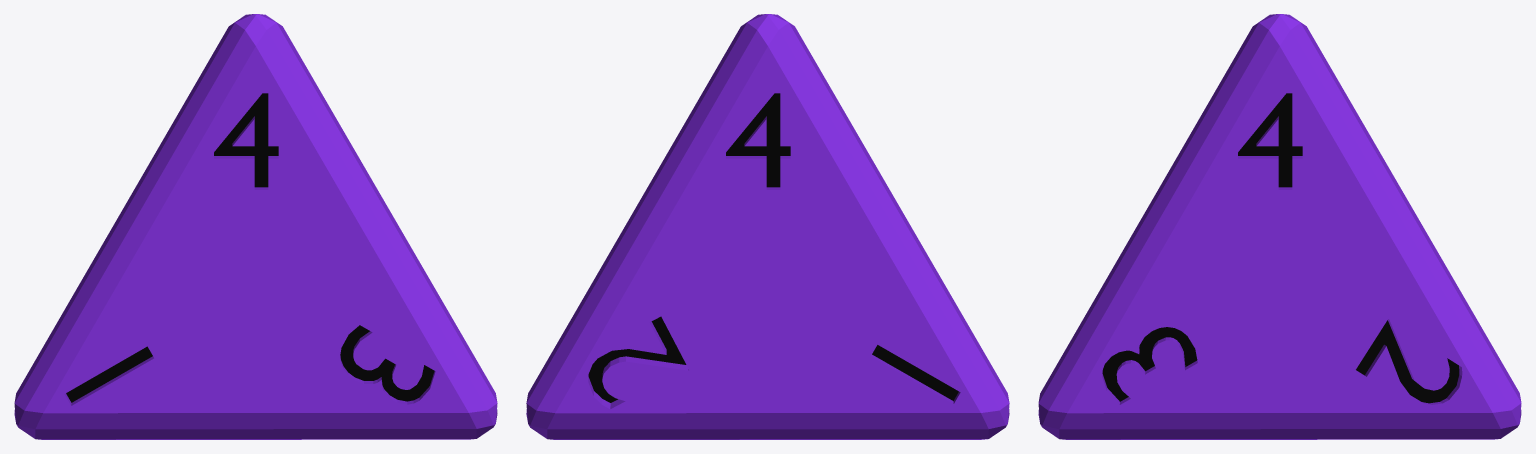
3 views of the same model, side by side, from view 1: azimuth 30°, elevation 25°; view 2: azimuth 150°, elevation 25°; view 3: azimuth 270°, elevation 25° (orthographic).
Parts seen in each view (by area): view 1: D4; view 2: D4; view 3: D4.
Boxes of the visible parts, x1,y1,x2,y2 form: D4: (14, 14, 497, 439); D4: (526, 14, 1009, 439); D4: (1038, 14, 1521, 439).
Bounding box in the file's own units: 19.09 × 18.29 × 21.44.
